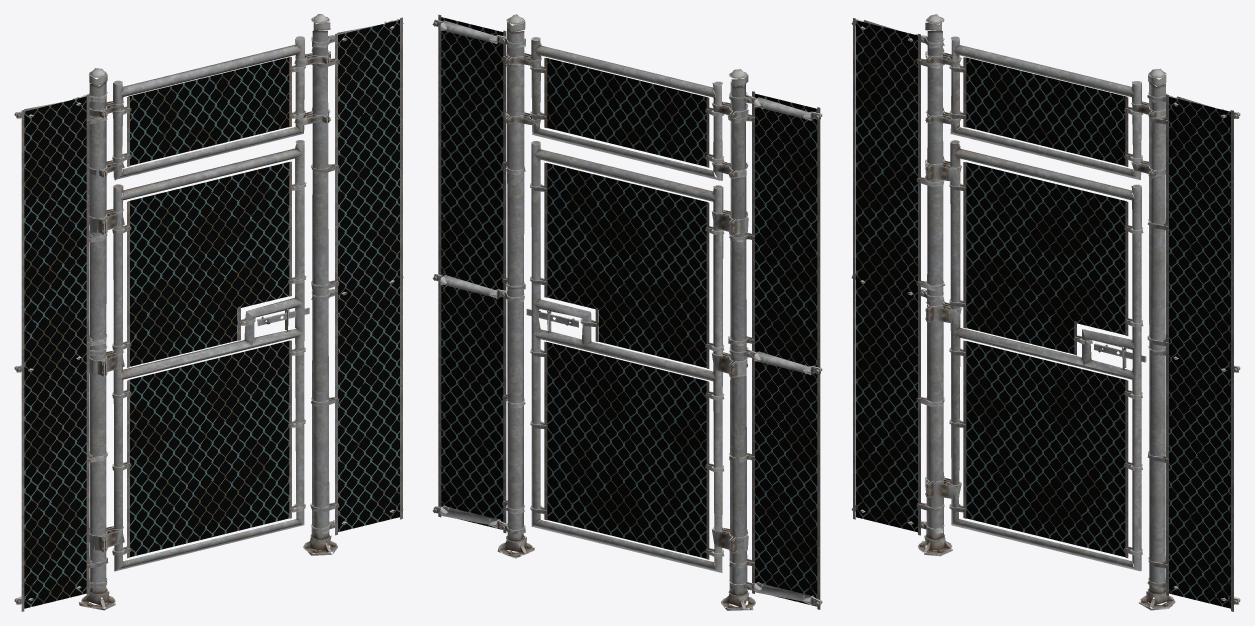
Rendered from tel_cit_kapi.gltf.
3 views of the same model, side by side, from view 1: azimuth 30°, elevation 25°; view 2: azimuth 150°, elevation 25°; view 3: azimuth 330°, elevation 25° (orthographic).
Parts seen in each view (by area): view 1: tel_cit_kapi; view 2: tel_cit_kapi; view 3: tel_cit_kapi.
Part boxes in pixels (bbox=[...]): tel_cit_kapi: bbox=[14, 14, 403, 611]; tel_cit_kapi: bbox=[432, 14, 822, 610]; tel_cit_kapi: bbox=[851, 14, 1240, 611].
Size of what is drawn, in the model's own units: 1.91 by 2.52 by 0.1619.
Materials: 2 (2 with a texture image).
